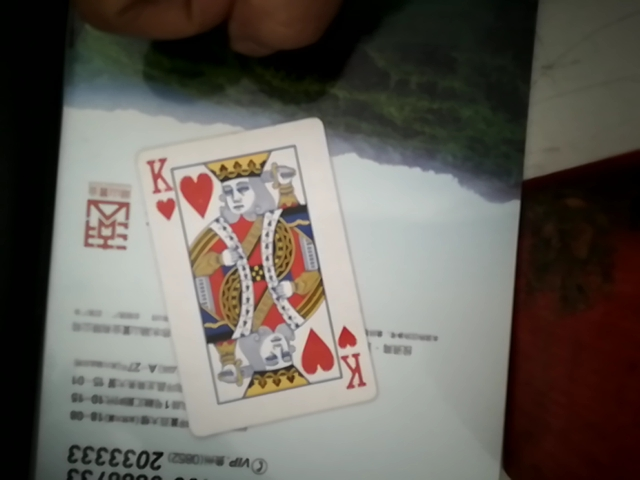hx k: (133, 117, 381, 441)
